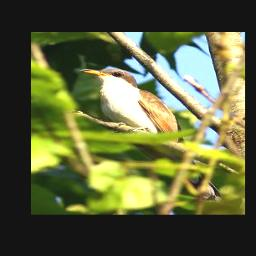Cuckoo: (76, 65, 227, 204)
